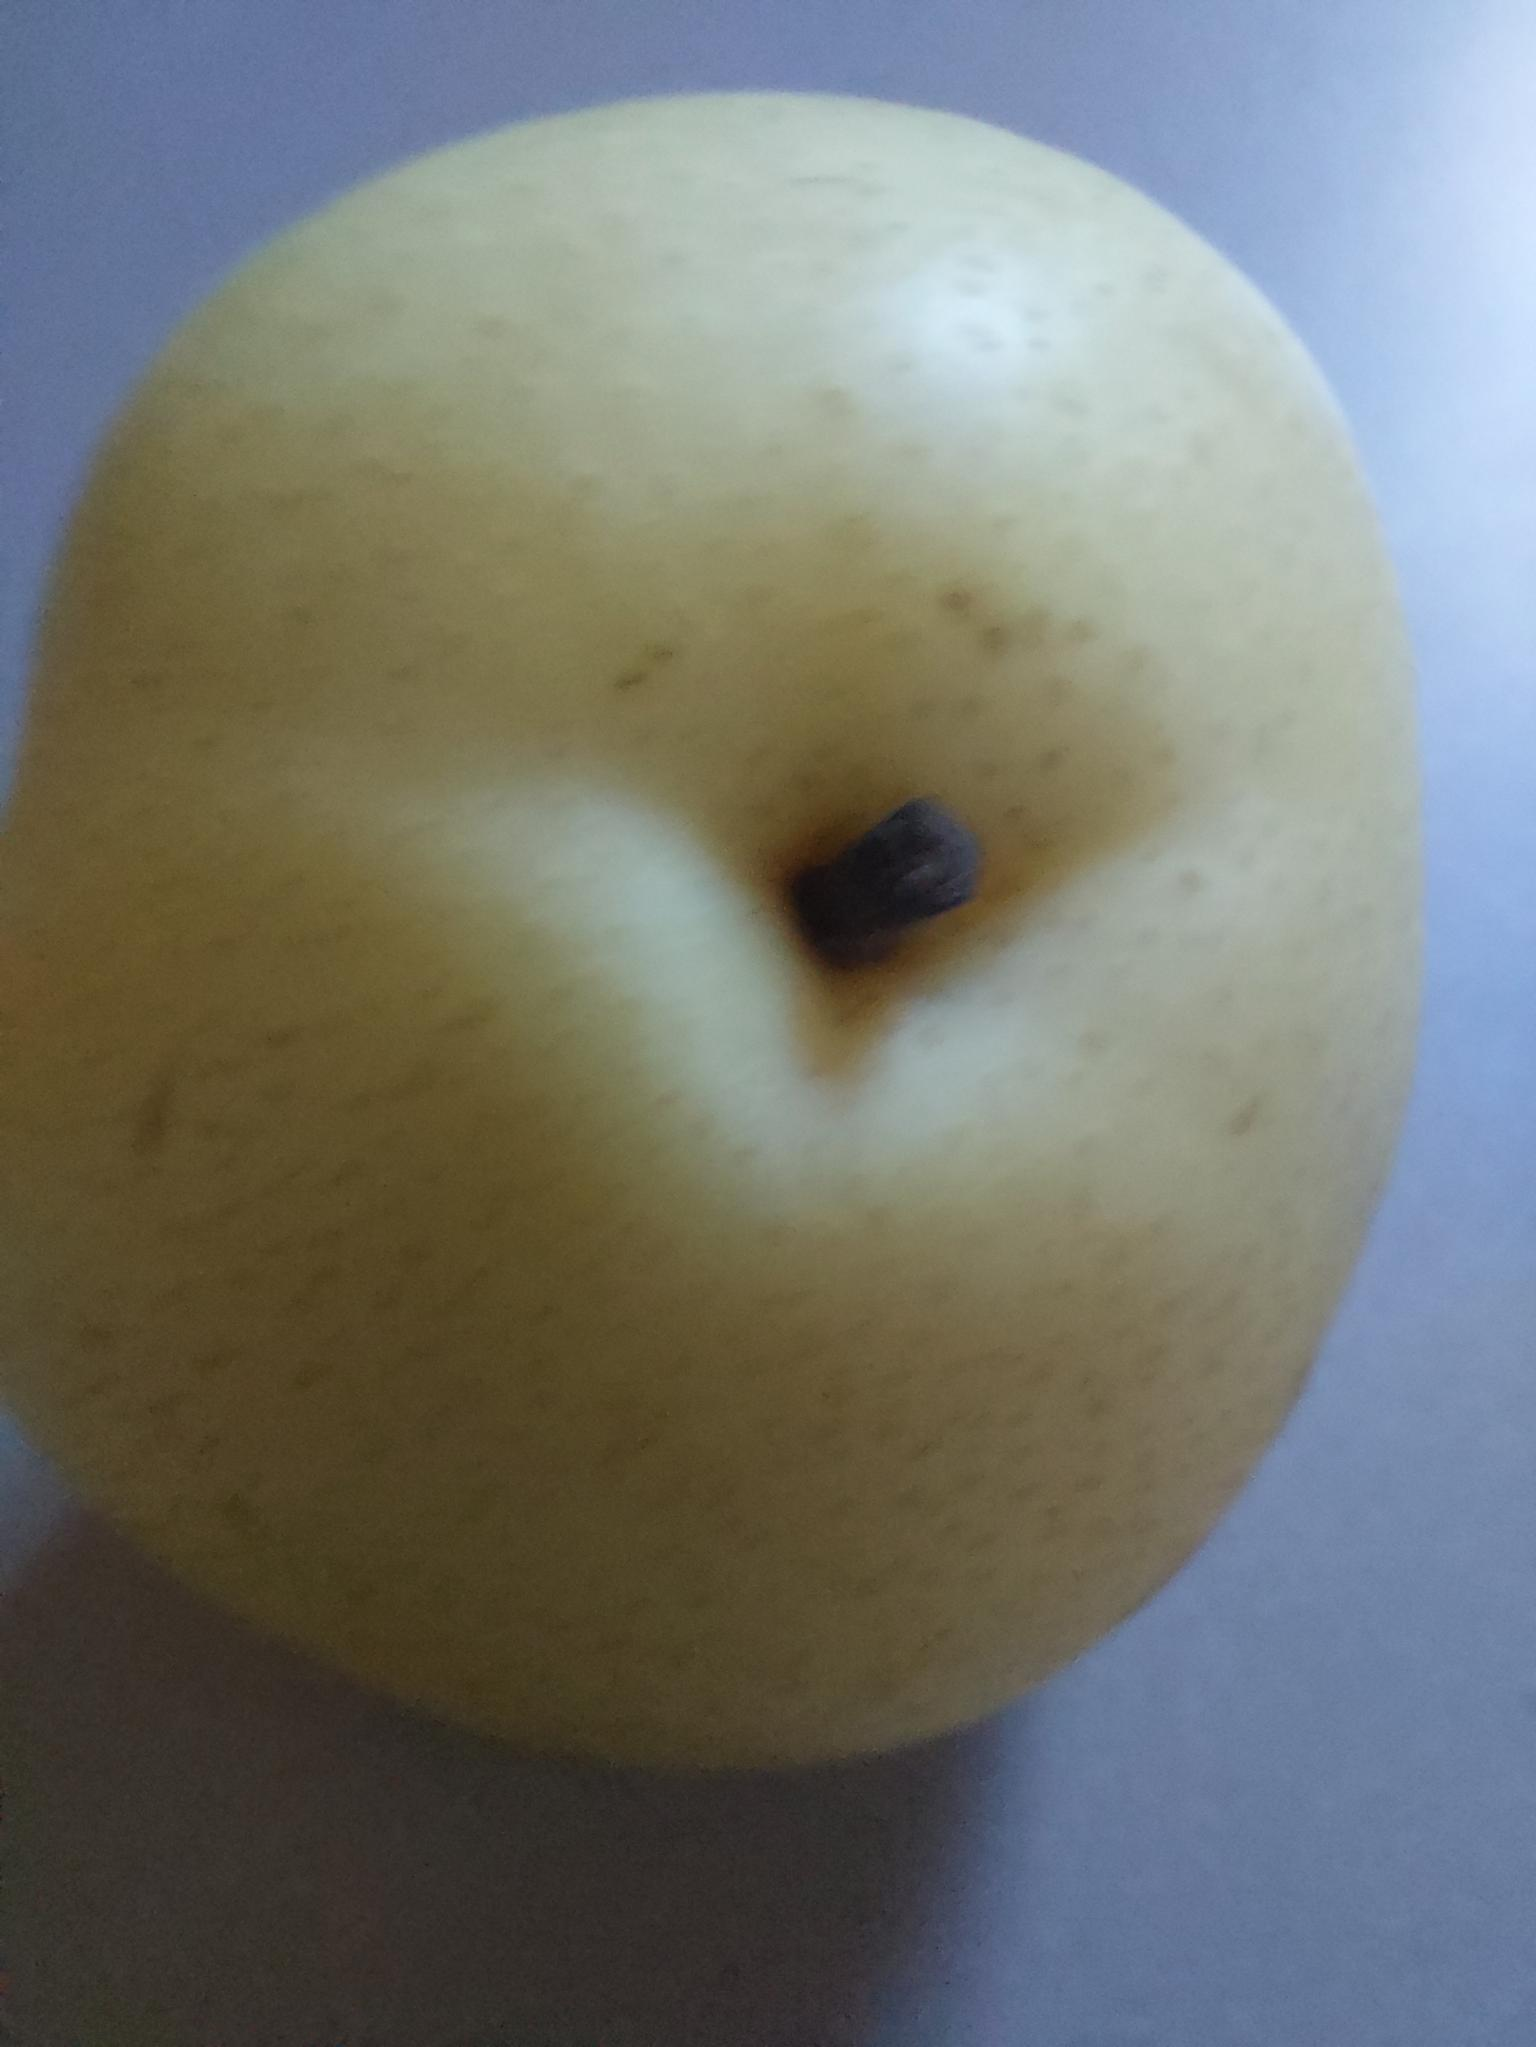Good Pear: (0, 0, 1536, 1829)
